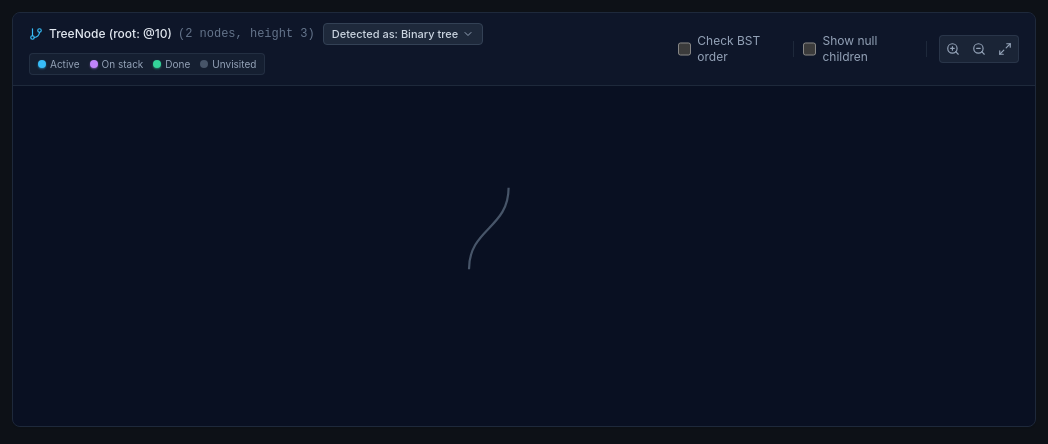
it: TreeView Component Tests (Phase 3 Stage 3) › Stage 5: Call Stack Connection, Recursion Progress & Output Order › toggles Check BST order and displays violation badges
The width and height of the screenshot is (1048, 444).
Click toggle
Click the checkbox with test id "bst-check-toggle": (685,49) [678, 42, 691, 56]
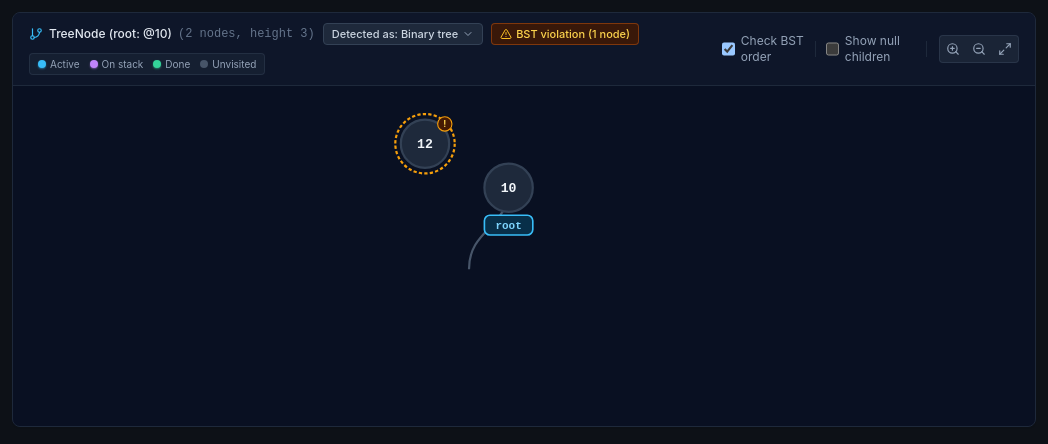
Expected: the element with test id "bst-badge-12" is shown, [443, 118, 446, 129]
Expected: the element with test id "bst-violation-badge" is shown, [491, 23, 639, 45]
